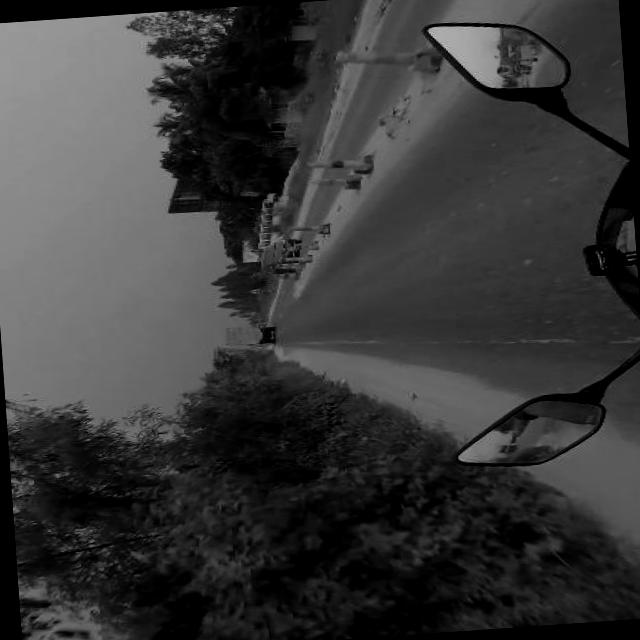bus: (252, 196, 280, 248)
car: (256, 238, 299, 276)
motorcycle: (399, 8, 640, 475)
truck: (220, 324, 276, 347)
